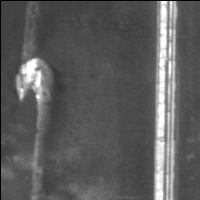scratches: (150, 1, 183, 200), (21, 24, 47, 200), (14, 57, 59, 115)
